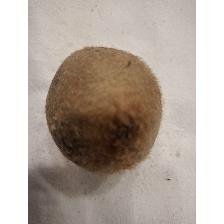Kiwi: (43, 42, 165, 177)
